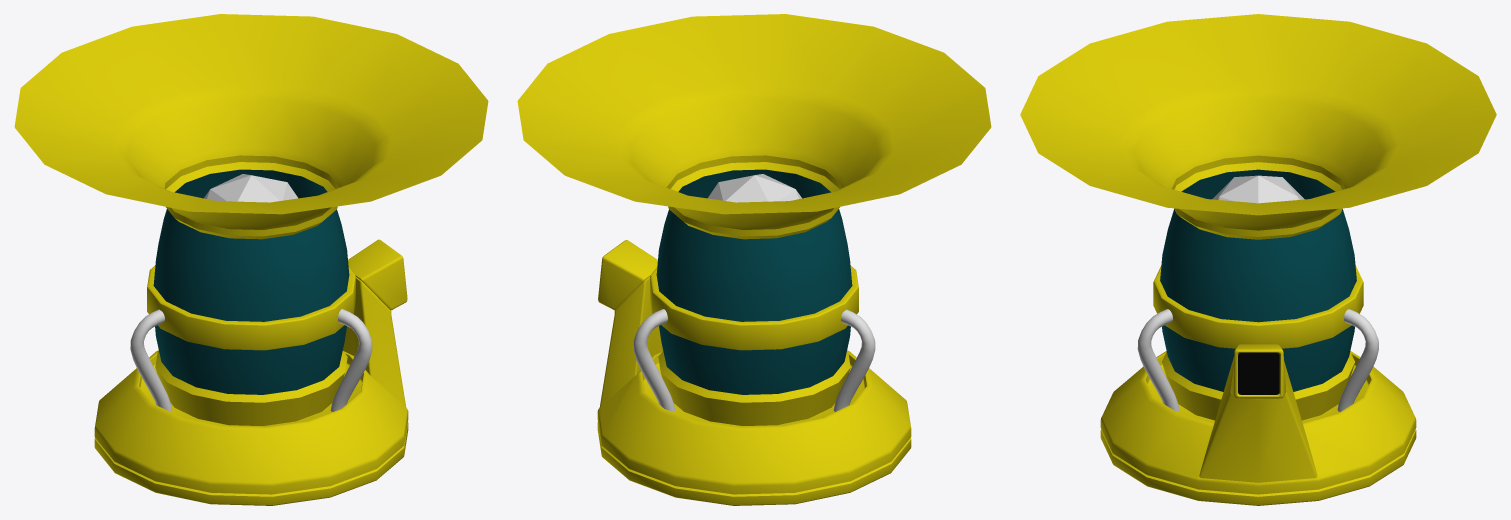
File: reactor1.fbx
3 renders of one model, left to right at view 1: azimuth 30°, elevation 25°; view 2: azimuth 150°, elevation 25°; view 3: azimuth 270°, elevation 25°, orthographic.
Visible parts, largest first — view 1: Cylinder.001, Cylinder, Cylinder.003, Icosphere; view 2: Cylinder.001, Cylinder, Cylinder.003, Icosphere; view 3: Cylinder.001, Cylinder, Cylinder.003, Icosphere.
Boxes of the visible parts, x1,y1,x2,y2 form: Cylinder.001: (14, 14, 488, 425); Cylinder: (94, 239, 408, 505); Cylinder.003: (130, 309, 372, 411); Icosphere: (204, 174, 297, 202); Cylinder.001: (517, 14, 991, 425); Cylinder: (597, 240, 911, 505); Cylinder.003: (633, 309, 875, 411); Icosphere: (708, 174, 801, 202); Cylinder.001: (1020, 14, 1496, 420); Cylinder: (1100, 344, 1416, 505); Cylinder.003: (1137, 309, 1378, 411); Icosphere: (1212, 175, 1304, 203).
Bounding box in the file's own units: 247 × 186 × 247.
